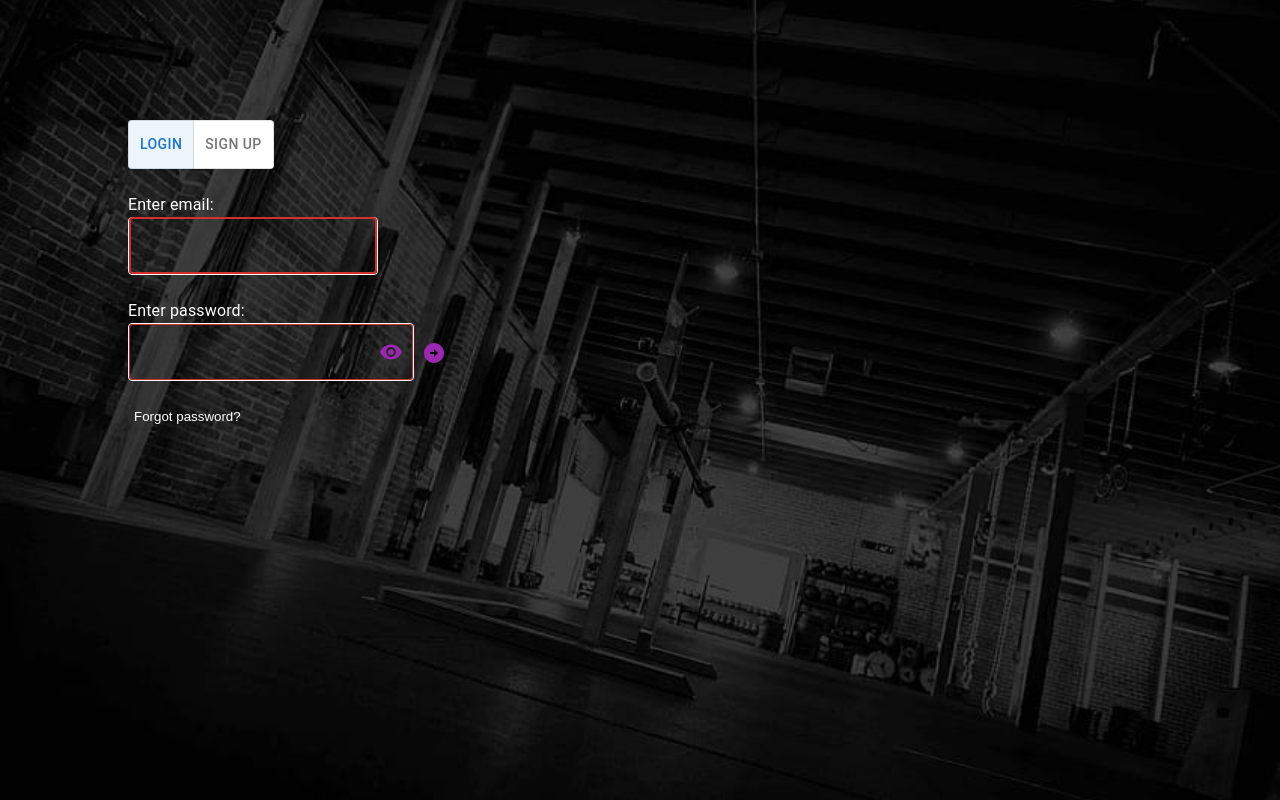
Scenario: basic renders › error message shows and clears
The image size is (1280, 800).
Click the 4th button.
click(434, 353)  # box [414,333,454,373]
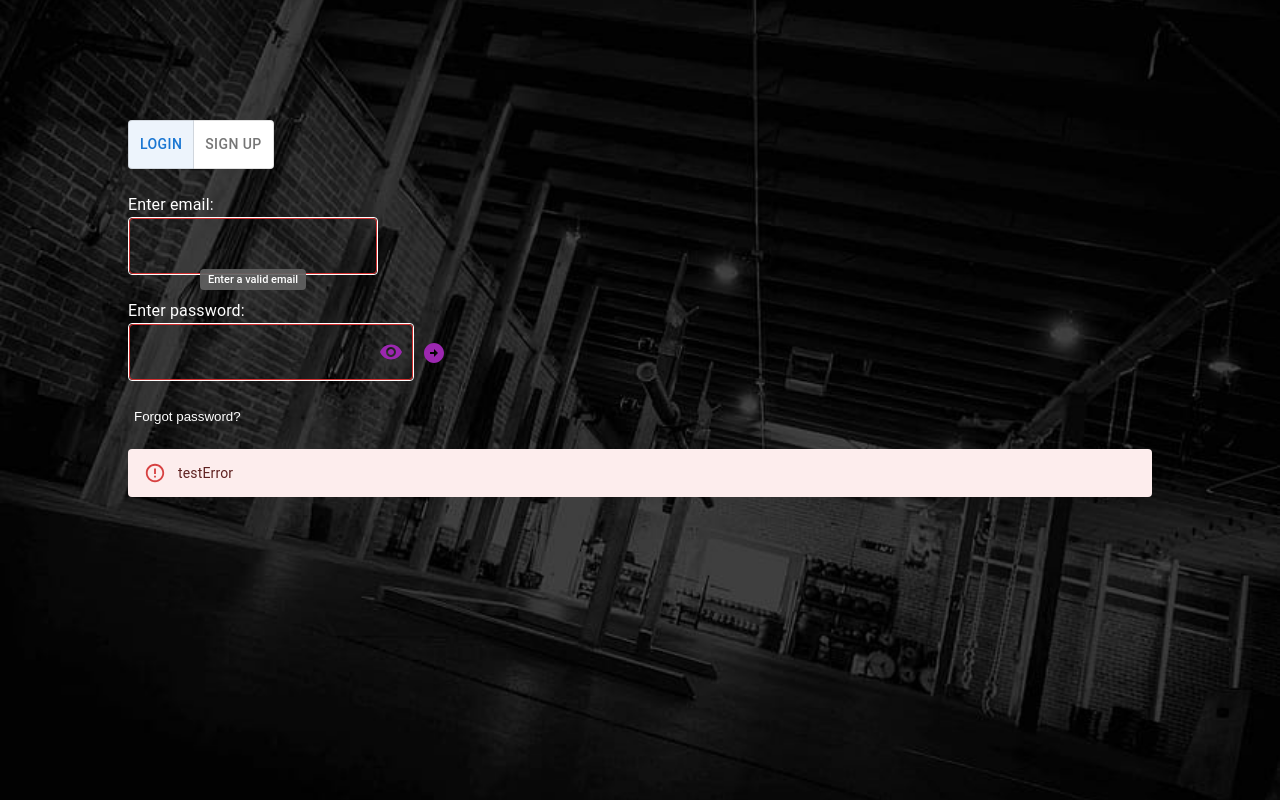
Expected: the text "testError" is shown, [178,464,233,480]
Type "a" into the field.
click(253, 246); type("a")  # box [129,218,377,274]
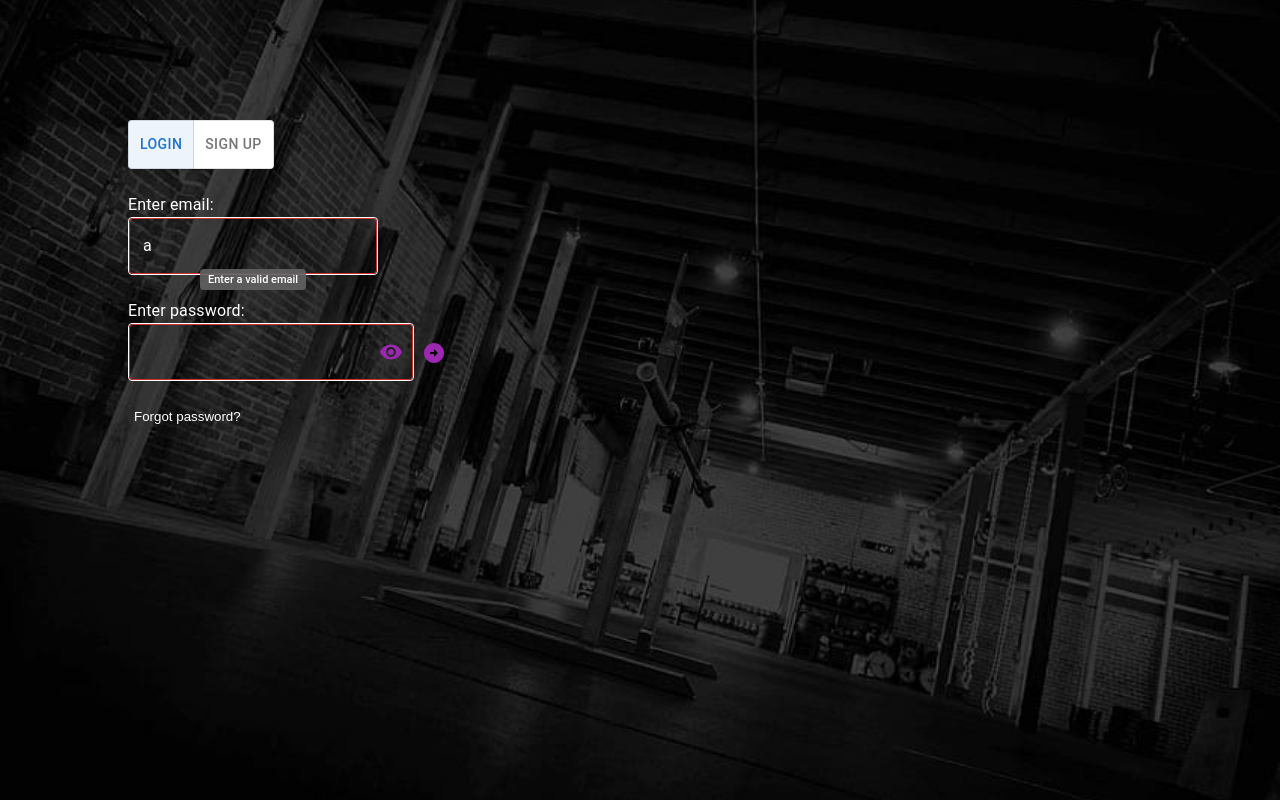
Expected: the text "testError" is gone
